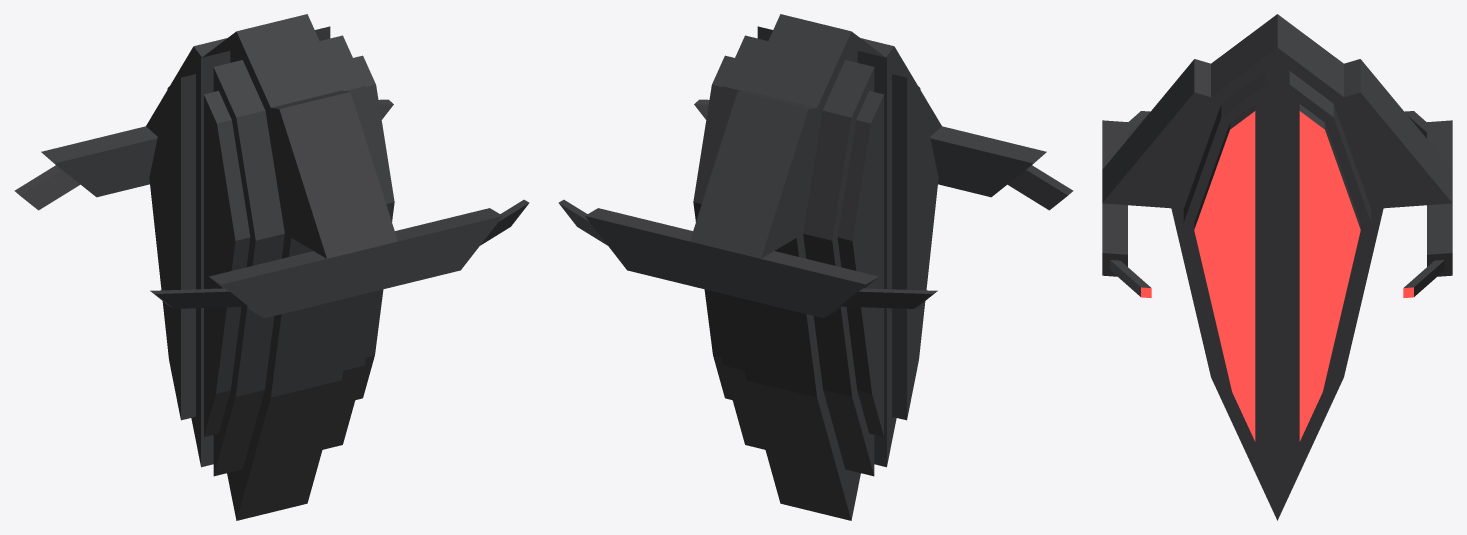
Rendered from HellfireEnemy.fbx.
3 views of the same model, side by side, from view 1: azimuth 30°, elevation 25°; view 2: azimuth 150°, elevation 25°; view 3: azimuth 270°, elevation 25° (orthographic). The views are drawn at different scales.
Parts seen in each view (by area): view 1: Cube; view 2: Cube; view 3: Cube.
Boxes of the visible parts, left/top/right/bottom form: Cube: left=14, top=14, right=529, bottom=520; Cube: left=558, top=14, right=1073, bottom=520; Cube: left=1102, top=14, right=1452, bottom=520.
Bounding box in the file's own units: 270 × 338 × 227.
